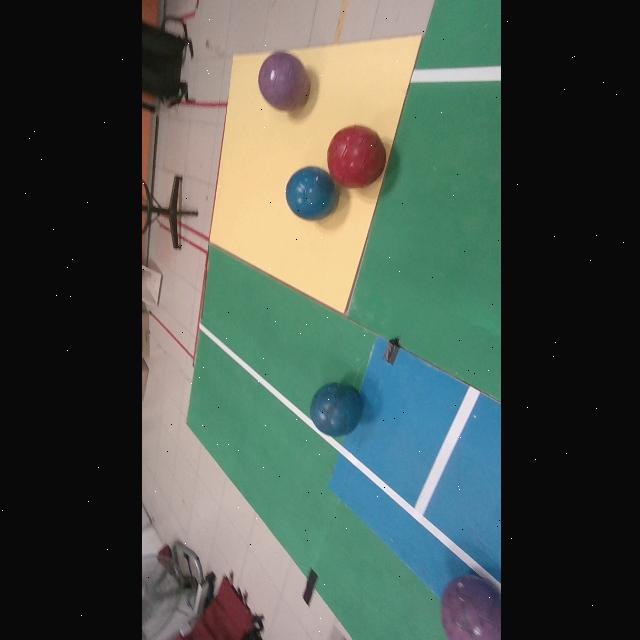B: (284, 166, 337, 221), (308, 382, 360, 436)
P: (439, 576, 500, 640), (256, 53, 308, 111)
R: (326, 125, 384, 188)
